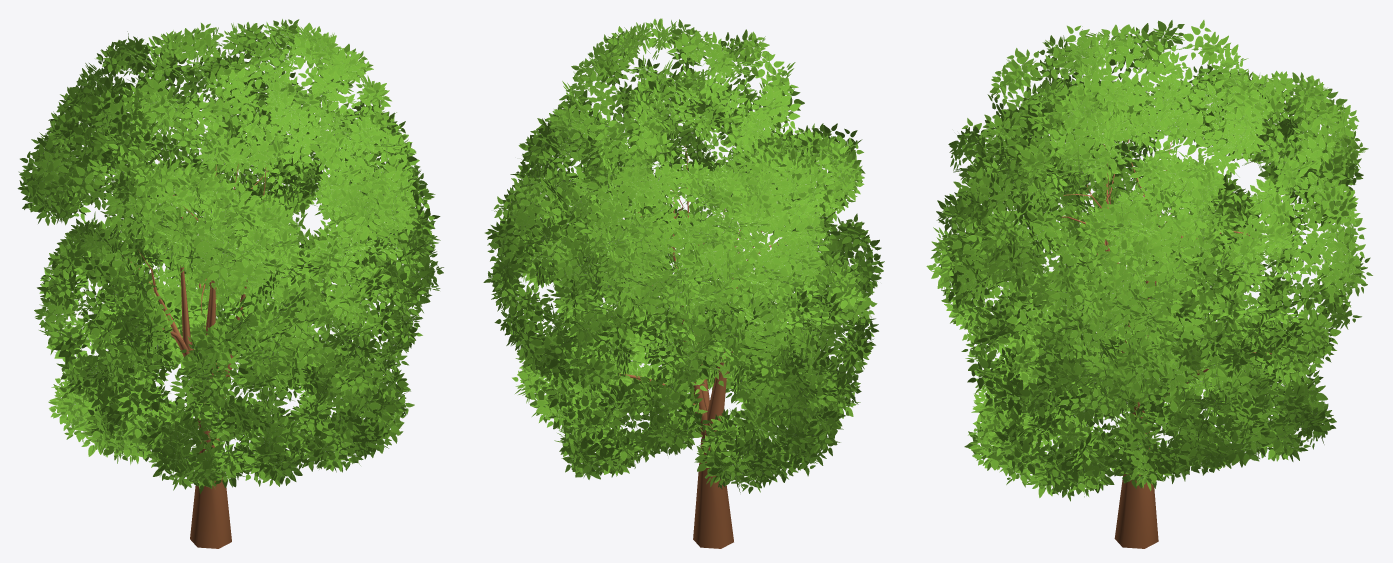
The model's file is tree1_2.fbx.
3 renders of one model, left to right at view 1: azimuth 30°, elevation 25°; view 2: azimuth 150°, elevation 25°; view 3: azimuth 270°, elevation 25°, orthographic. The views are drawn at different scales.
Visible parts, largest first — view 1: tree1_2; view 2: tree1_2; view 3: tree1_2.
Part boxes in pixels (x1=…): tree1_2: x1=17, y1=19, x2=443, y2=548; tree1_2: x1=483, y1=18, x2=884, y2=548; tree1_2: x1=926, y1=20, x2=1372, y2=548.
Size of the model in its own units: 675 by 853 by 665.
